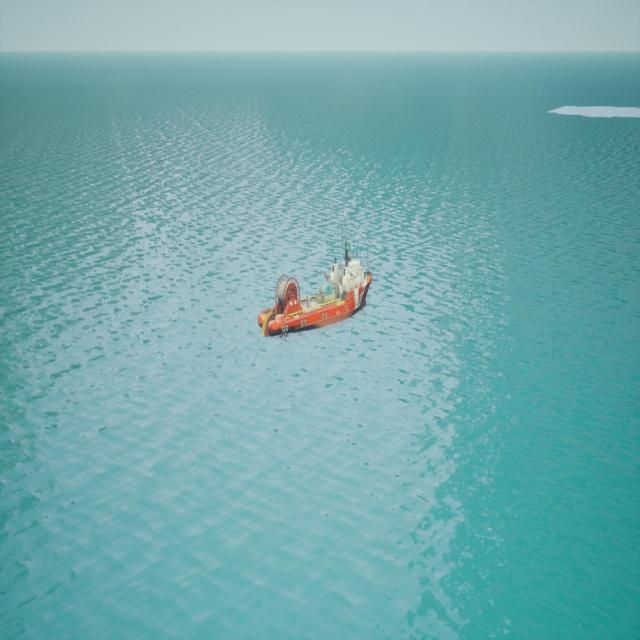tug boat: (260, 247, 374, 339)
